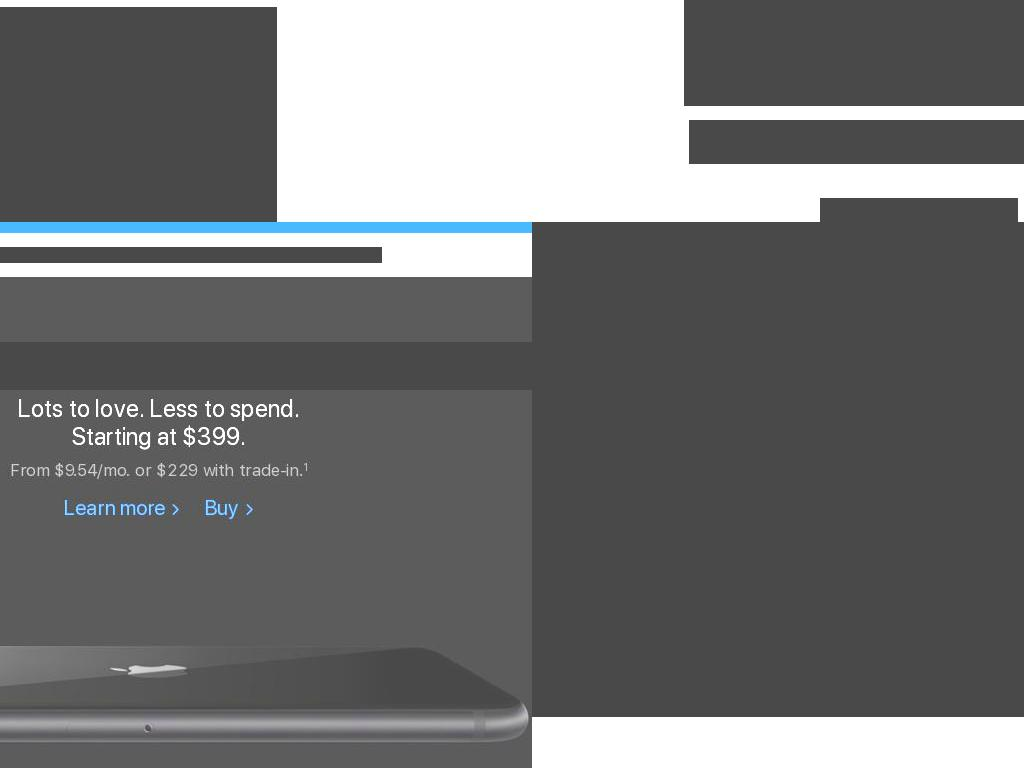button: (0, 7, 277, 222), (532, 475, 645, 522), (820, 198, 1018, 222)
field: (678, 600, 957, 650), (532, 600, 679, 650), (956, 600, 1024, 650)
heading: (684, 0, 1024, 106), (0, 342, 532, 390), (0, 395, 334, 451)
image: (532, 222, 1024, 717), (0, 7, 277, 222), (532, 475, 645, 522)
link: (63, 494, 181, 520), (204, 494, 254, 520), (303, 460, 309, 473)
text: (0, 392, 532, 768), (689, 120, 1024, 164), (10, 247, 382, 263), (197, 459, 303, 480), (54, 457, 131, 483), (844, 211, 993, 222), (918, 144, 975, 164), (156, 457, 198, 483), (10, 459, 55, 480), (130, 459, 156, 480)
